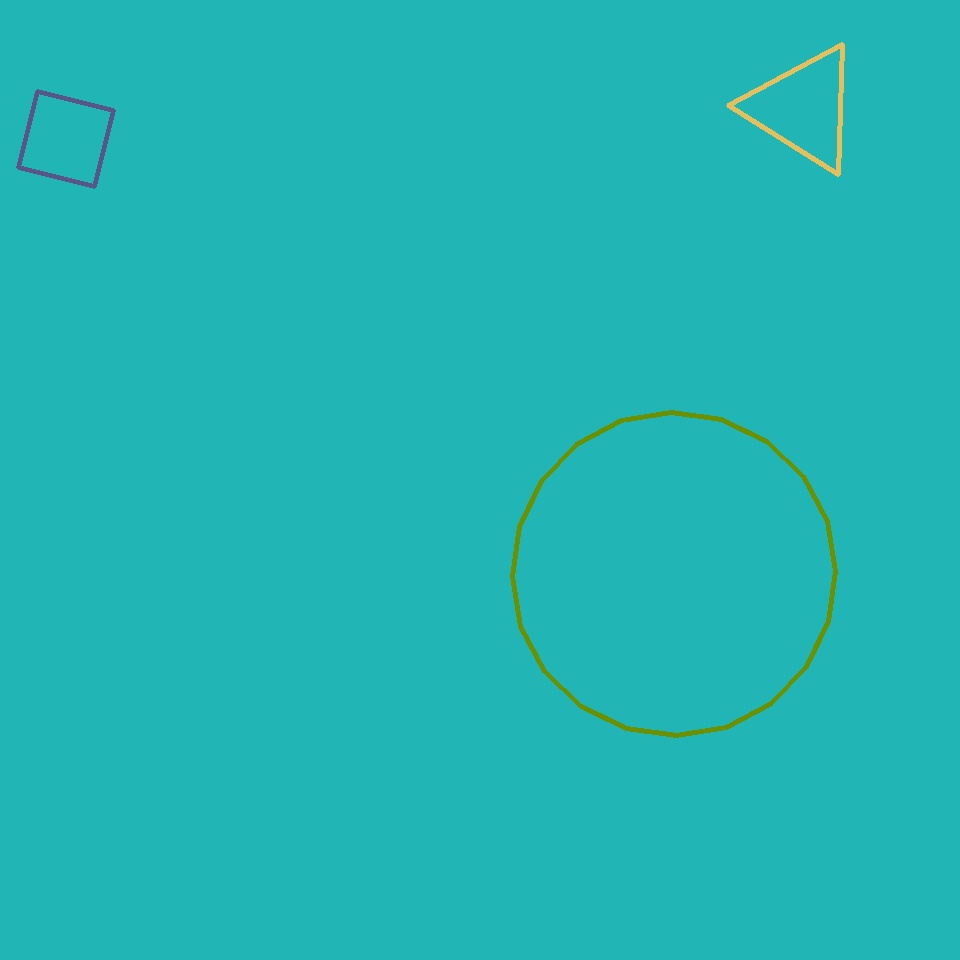circle: (746, 43, 860, 173)
square: (19, 92, 114, 186)
triangle: (512, 412, 835, 736)
